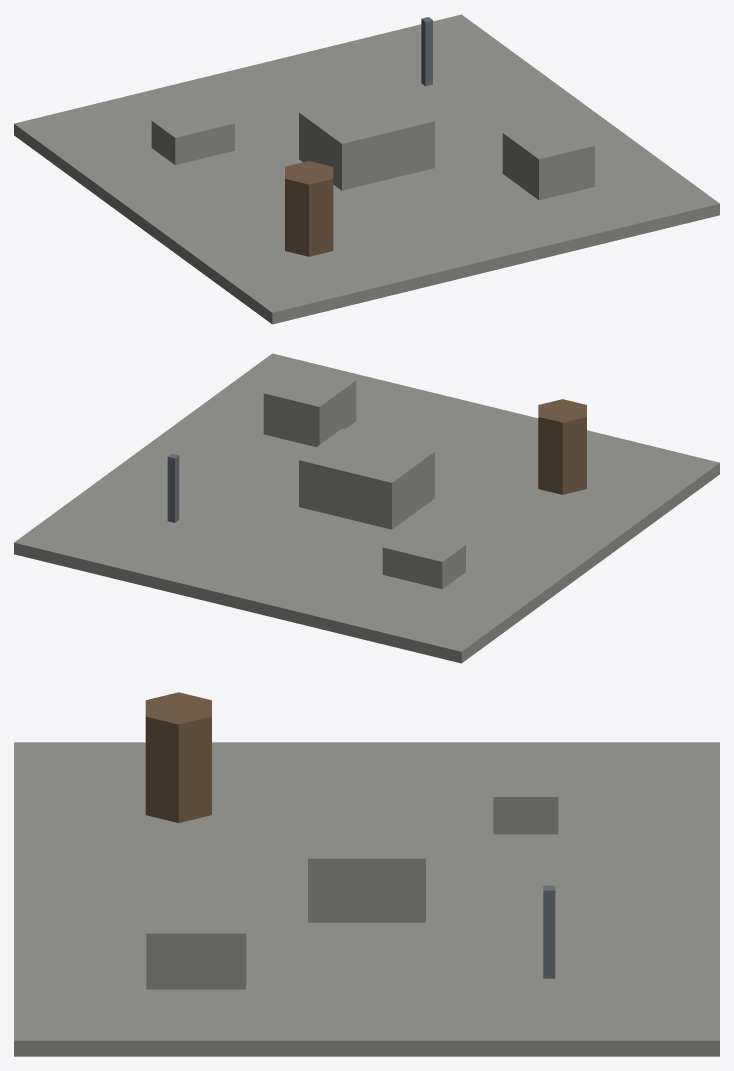
File: tw_slab_24_crown_lod1.glb
3 views of the same model, one above another, from view 1: azimuth 30°, elevation 25°; view 2: azimuth 150°, elevation 25°; view 3: azimuth 270°, elevation 25° (orthographic). The views are drawn at different scales.
Parts seen in each view (by area): view 1: tw_slab_24_crown_lod1; view 2: tw_slab_24_crown_lod1; view 3: tw_slab_24_crown_lod1.
Part boxes in pixels (bbox=[...]): tw_slab_24_crown_lod1: bbox=[14, 14, 719, 324]; tw_slab_24_crown_lod1: bbox=[14, 353, 719, 663]; tw_slab_24_crown_lod1: bbox=[14, 692, 719, 1056].
Size of the model in its own units: 24 by 4.3 by 24.
2 materials, 2 textured.
